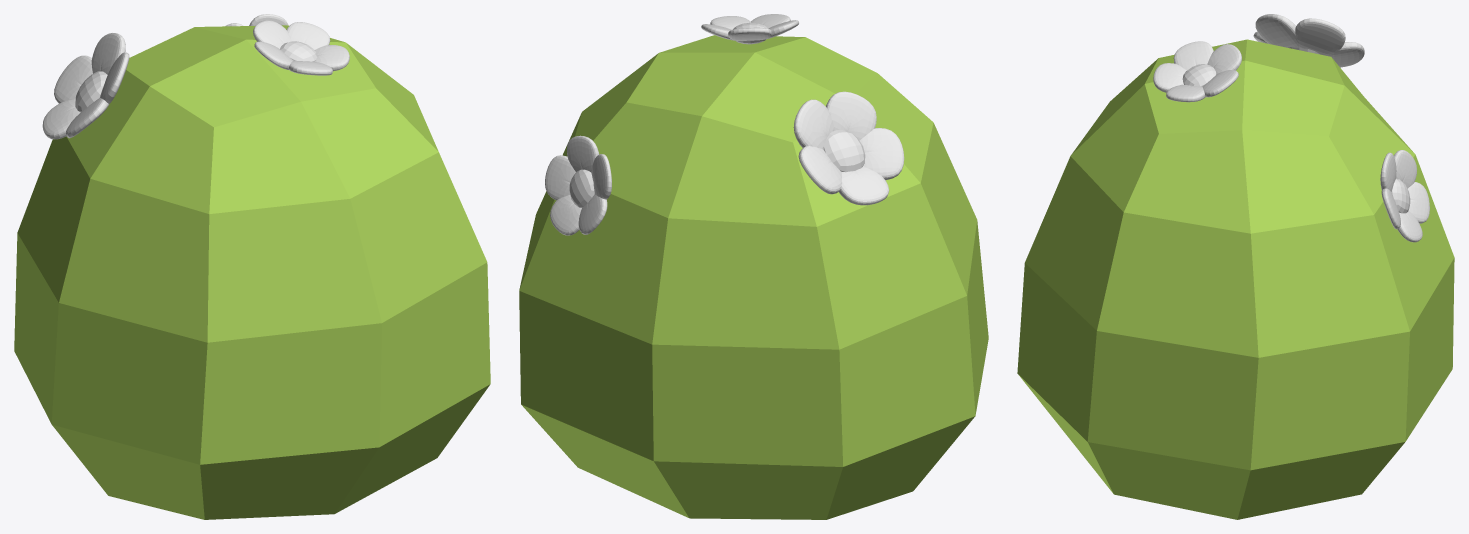
Rendered from bush_small_flower.fbx.
3 views of the same model, side by side, from view 1: azimuth 30°, elevation 25°; view 2: azimuth 150°, elevation 25°; view 3: azimuth 270°, elevation 25° (orthographic). The views are drawn at different scales.
Visible parts, largest first — view 1: Cube.013, Cube.027, Cube.029; view 2: Cube.013, Cube.027, Cube.028, Cube.029; view 3: Cube.013, Cube.029, Cube.027, Cube.028.
Part boxes in pixels (left/top/right/bottom): Cube.013: left=14, top=25, right=490, bottom=519; Cube.027: left=42, top=33, right=129, bottom=139; Cube.029: left=253, top=20, right=349, bottom=75; Cube.013: left=519, top=35, right=988, bottom=519; Cube.027: left=793, top=91, right=904, bottom=205; Cube.028: left=545, top=135, right=611, bottom=235; Cube.029: left=701, top=14, right=798, bottom=44; Cube.013: left=1017, top=39, right=1454, bottom=519; Cube.029: left=1153, top=41, right=1241, bottom=102; Cube.027: left=1253, top=14, right=1364, bottom=67; Cube.028: left=1380, top=150, right=1429, bottom=242.
Bounding box in the file's own units: 1.43 × 1.35 × 1.49.
